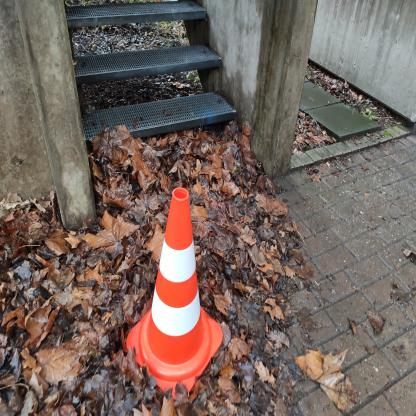Cones_big: (127, 184, 228, 398)
